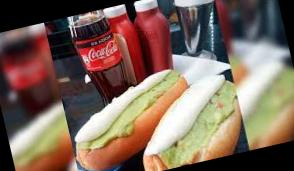Completos: (58, 59, 206, 171), (125, 63, 249, 171)
